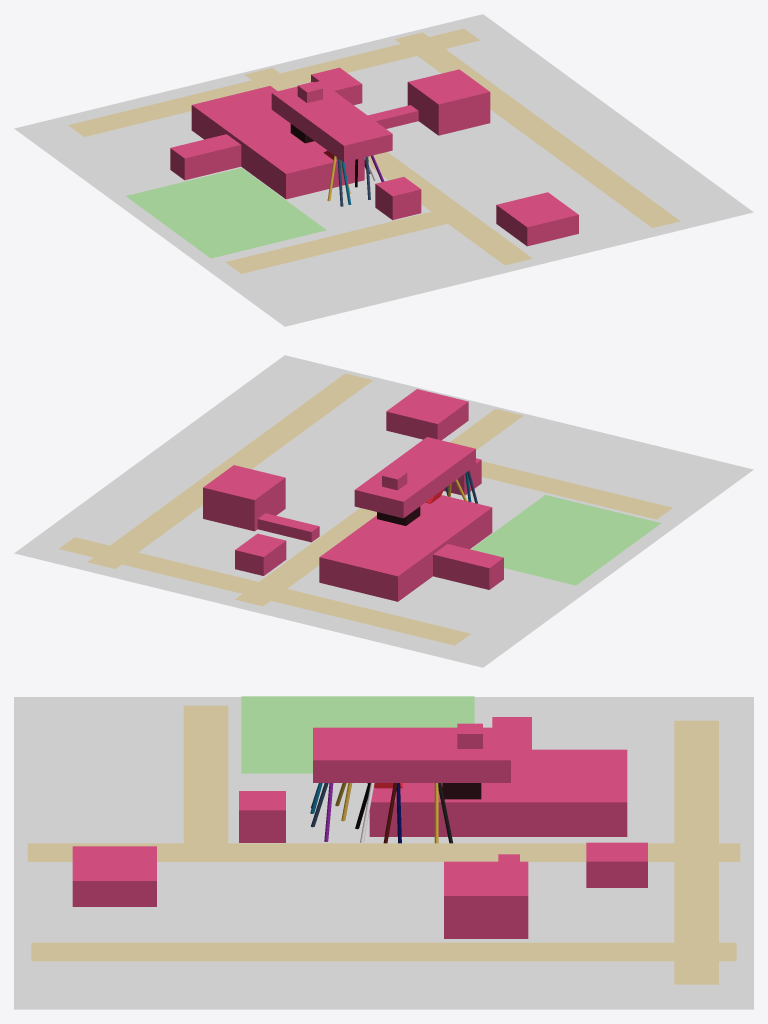
Rendered from ocad-campus.glb.
3 views of the same model, one above another, from view 1: azimuth 30°, elevation 25°; view 2: azimuth 150°, elevation 25°; view 3: azimuth 270°, elevation 25° (orthographic). The views are drawn at different scales.
Visible parts, largest first — view 1: 平面, 平面.005, Cube.001, 平面.002, 平面.001, Cube, Cube.003, 平面.003, 平面.004, Cube.002, Cube.007, Cube.005 (+2 smaller); view 2: 平面, Cube.001, 平面.005, 平面.001, 平面.002, Cube, 平面.003, Cube.003, Cube.002, 平面.004, Cube.007, Cube.004 (+2 smaller); view 3: 平面, Cube.001, 平面.002, 平面.001, 平面.005, Cube, 平面.003, 平面.004, Cube.003, Cube.002, Cube.004, Cube.005 (+3 smaller).
Boxes of the visible parts, x1,y1,x2,y2 form: 平面: (14, 14, 753, 326); 平面.005: (126, 168, 326, 258); Cube.001: (191, 86, 364, 199); 平面.002: (395, 32, 680, 227); 平面.001: (68, 28, 479, 136); Cube: (271, 81, 392, 162); Cube.003: (407, 69, 490, 135); 平面.003: (244, 68, 532, 265); 平面.004: (225, 210, 454, 273); Cube.002: (496, 192, 578, 246); Cube.007: (170, 134, 241, 180); Cube.005: (375, 177, 421, 220); 平面: (14, 355, 753, 667); Cube.001: (319, 495, 492, 601); 平面.005: (471, 495, 661, 585); 平面.001: (59, 537, 470, 645); 平面.002: (87, 373, 372, 568); Cube: (354, 437, 475, 518); 平面.003: (235, 409, 523, 606); Cube.003: (203, 465, 285, 531); Cube.002: (386, 389, 468, 440); 平面.004: (481, 461, 672, 519); Cube.007: (433, 544, 503, 589); Cube.004: (235, 533, 286, 575); 平面: (14, 697, 753, 1009); Cube.001: (369, 749, 627, 836); 平面.002: (31, 942, 736, 961); 平面.001: (674, 720, 718, 984); 平面.005: (241, 696, 474, 773); Cube: (313, 727, 510, 782); 平面.003: (27, 843, 740, 861); 平面.004: (183, 705, 228, 849); Cube.003: (444, 861, 528, 938); Cube.002: (72, 846, 156, 906); Cube.004: (586, 842, 647, 887); Cube.005: (239, 791, 285, 842).
Size of the model in its own units: 10.37 by 2.11 by 10.37.
